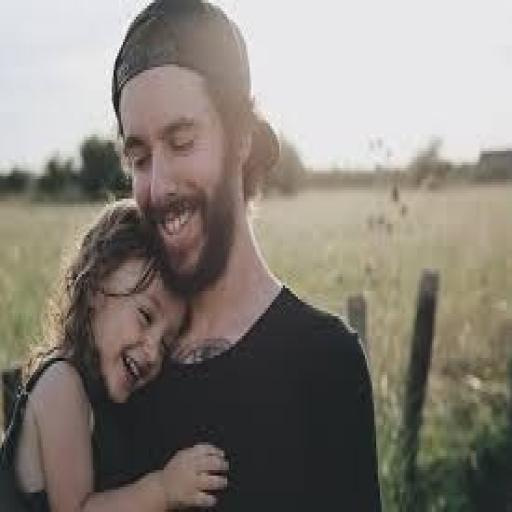hugging: (4, 0, 384, 509), (4, 196, 231, 509)
